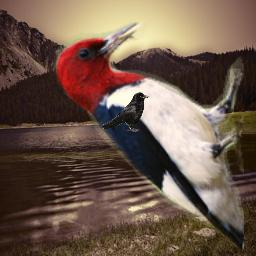Crow: (101, 92, 150, 132)
Woodpecker: (53, 22, 244, 249)
